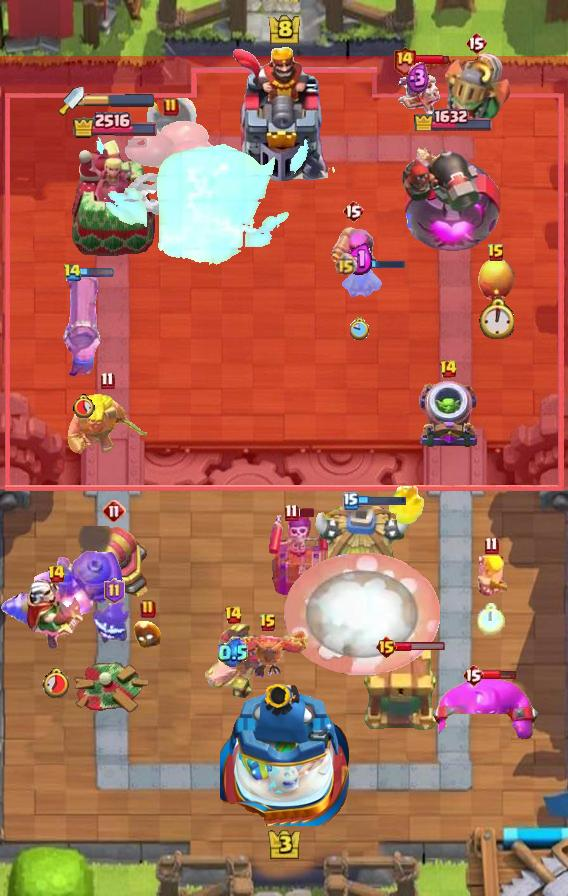archer: (477, 553, 507, 597)
bar: (70, 138, 158, 256)
battle-healer: (60, 274, 106, 378)
bomb: (359, 644, 437, 732)
bomber: (133, 621, 163, 649)
clone: (429, 677, 541, 743)
electro-spirit: (345, 244, 375, 277), (218, 638, 248, 668), (406, 62, 430, 95)
elixir: (478, 297, 514, 339), (42, 667, 71, 698), (477, 603, 505, 635), (72, 394, 95, 418), (350, 316, 370, 339)
emote: (356, 494, 408, 507), (354, 258, 406, 270), (395, 640, 446, 651), (414, 54, 450, 66), (483, 669, 518, 681), (79, 266, 115, 277), (296, 507, 316, 518)
freeze: (202, 622, 264, 702)
goblin-cage: (416, 380, 480, 450)
goblin-hut: (63, 391, 151, 455)
golden-knight: (227, 630, 309, 680)
hog: (476, 258, 516, 302)
king-tower: (219, 678, 349, 826), (230, 45, 338, 181)
king-tower-bar: (84, 93, 156, 107)
mega-knight: (92, 123, 309, 269)
night-witch: (441, 52, 511, 126)
prince: (310, 506, 412, 602)
royal-giant: (146, 98, 198, 150)
royal-recruit: (75, 526, 153, 602)
royal-recruit-evolution: (120, 119, 222, 227)
selected: (70, 110, 157, 139), (414, 105, 495, 130)
skeleton-dragon: (396, 64, 440, 124)
skeleton-king: (26, 578, 86, 654)
skeleton-king-bar: (269, 509, 331, 595)
spear-goblin: (92, 599, 136, 647)
text: (392, 44, 417, 75), (102, 499, 126, 523), (335, 252, 358, 276), (374, 635, 397, 659), (103, 578, 124, 604), (465, 31, 487, 55), (342, 199, 364, 223), (462, 663, 484, 687), (438, 359, 457, 379), (47, 564, 66, 584), (225, 605, 244, 625), (63, 262, 82, 281), (487, 243, 505, 263), (259, 613, 277, 633), (163, 97, 179, 117), (140, 599, 156, 619), (343, 492, 359, 510), (285, 503, 300, 522), (101, 371, 115, 389), (485, 537, 499, 555)
tombstone: (329, 225, 378, 277)
tower-bar: (402, 136, 504, 256)
valkyrie: (384, 486, 430, 528)
wall-breaker: (284, 553, 440, 675)
wizard: (0, 550, 124, 628)
zap: (338, 260, 382, 302)
